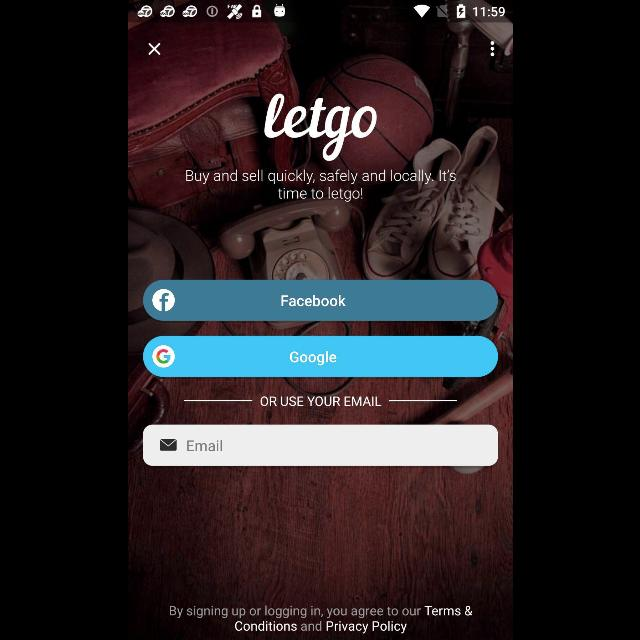backgroundimage: (128, 22, 512, 640)
icon: (148, 43, 160, 55), (490, 41, 494, 57)
image: (264, 94, 376, 162)
text: (185, 170, 455, 202), (168, 606, 472, 634), (259, 396, 381, 406)
textbutton: (142, 424, 498, 466), (142, 337, 498, 378), (142, 280, 498, 320)
uppertaskbar: (128, 1, 512, 23)
